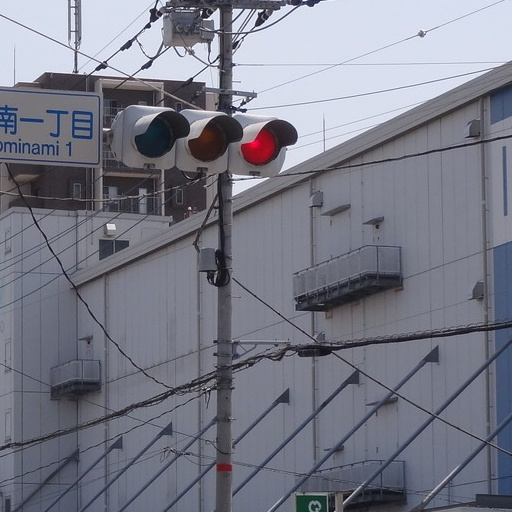Traffic_Signal_Red: (114, 91, 296, 182)
